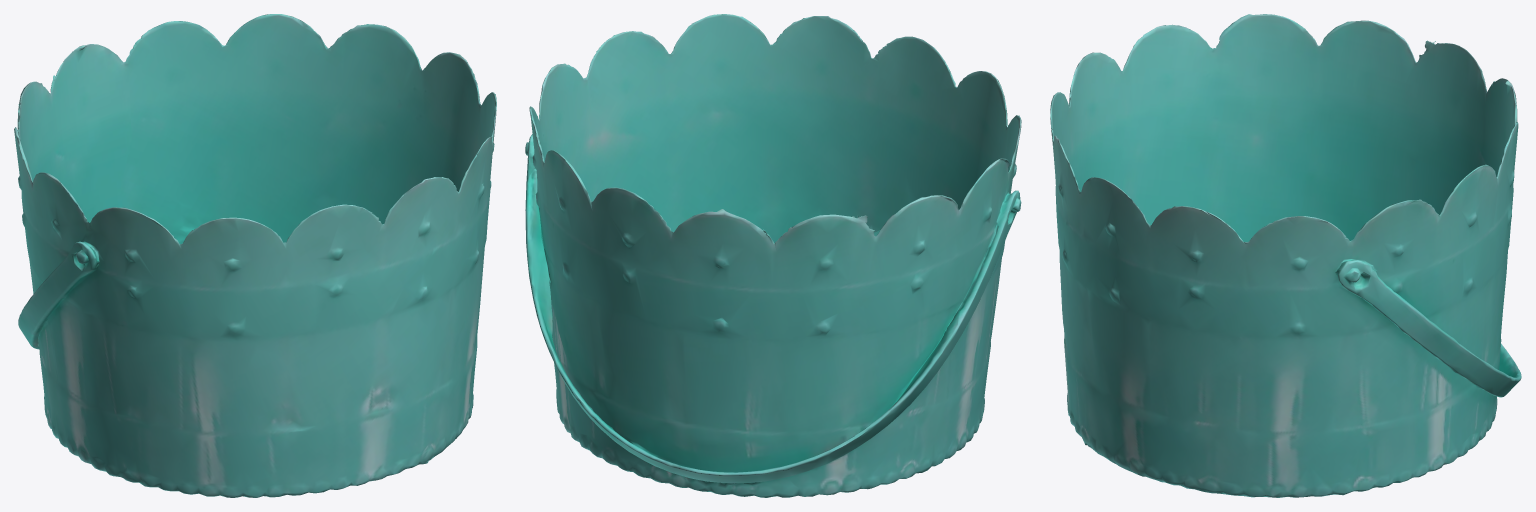
Rendered from Spritz_Easter_Basket_Plastic_Teal.glb.
3 renders of one model, left to right at view 1: azimuth 30°, elevation 25°; view 2: azimuth 150°, elevation 25°; view 3: azimuth 270°, elevation 25°, orthographic.
Parts seen in each view (by area): view 1: model.obj; view 2: model.obj; view 3: model.obj.
Part boxes in pixels (<box>): model.obj: <box>14,14,496,497</box>; model.obj: <box>525,14,1021,497</box>; model.obj: <box>1050,14,1521,497</box>.
Size of the model in its own units: 1 by 0.674 by 0.9548.
Materials: 1 (1 with a texture image).
